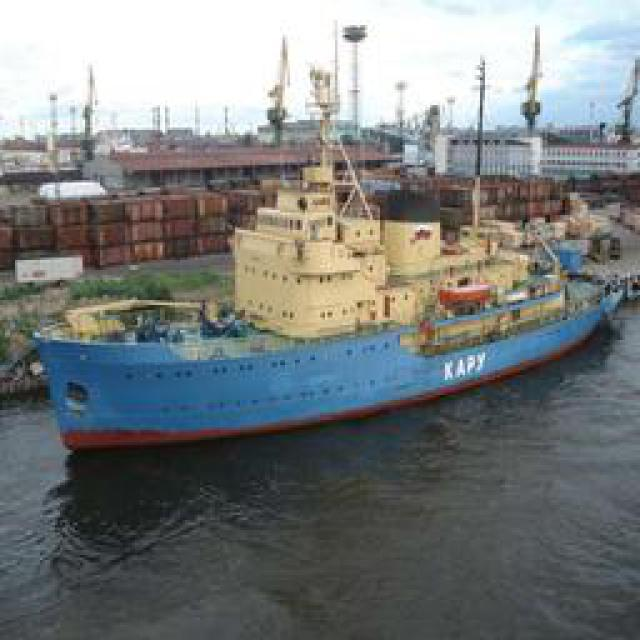Ship: (38, 182, 606, 450)
